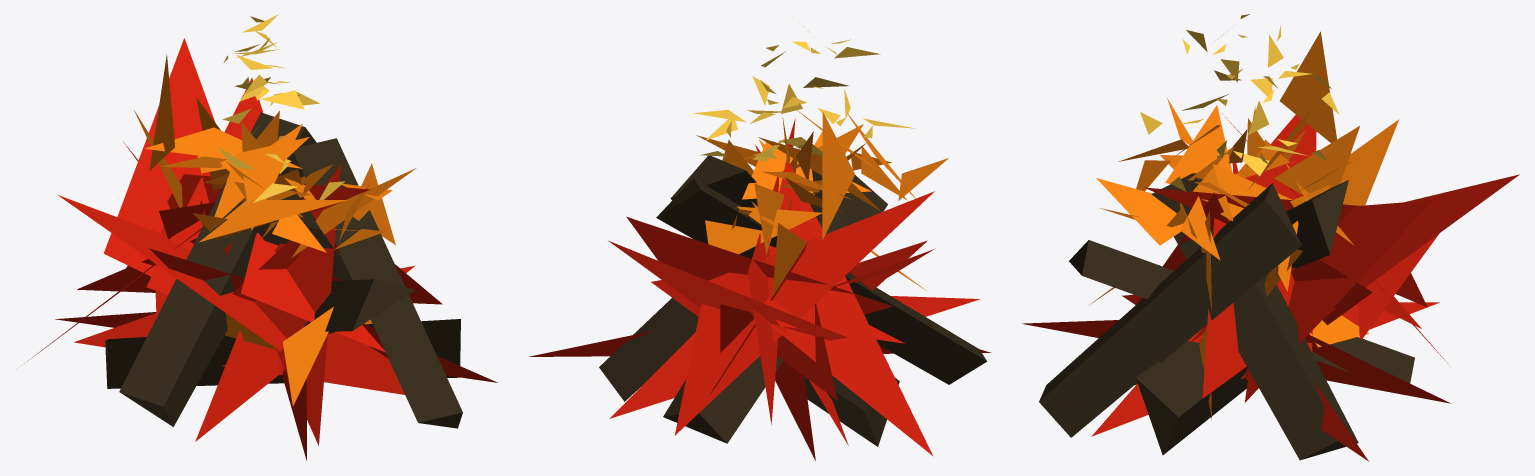
3 views of the same model, side by side, from view 1: azimuth 30°, elevation 25°; view 2: azimuth 150°, elevation 25°; view 3: azimuth 270°, elevation 25° (orthographic).
Parts seen in each view (by area): view 1: Box031; view 2: Box031; view 3: Box031.
Boxes of the visible parts, x1,y1,x2,y2 form: Box031: (21, 14, 497, 460); Box031: (528, 22, 991, 461); Box031: (1022, 14, 1519, 461).
Size of the model in its own units: 0.5916 by 0.5238 by 0.6306.
